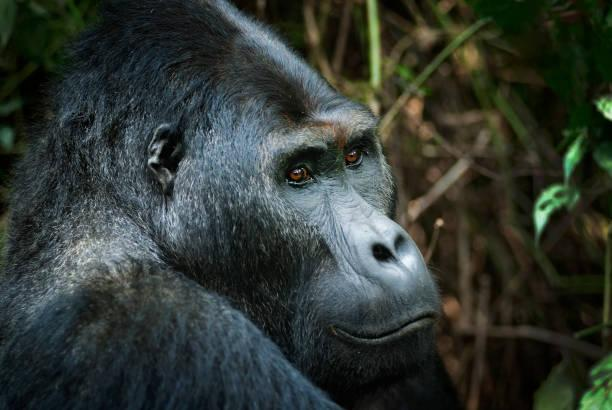gorille_Autres: (2, 0, 494, 410)
